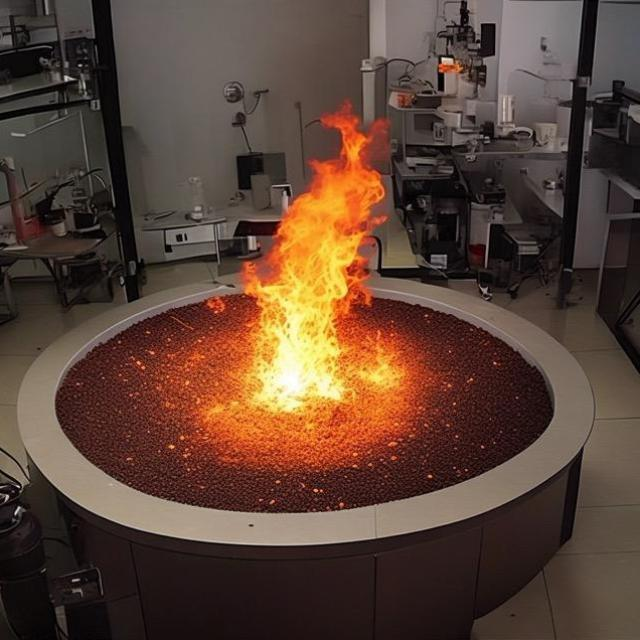smoke: (240, 96, 390, 414)
